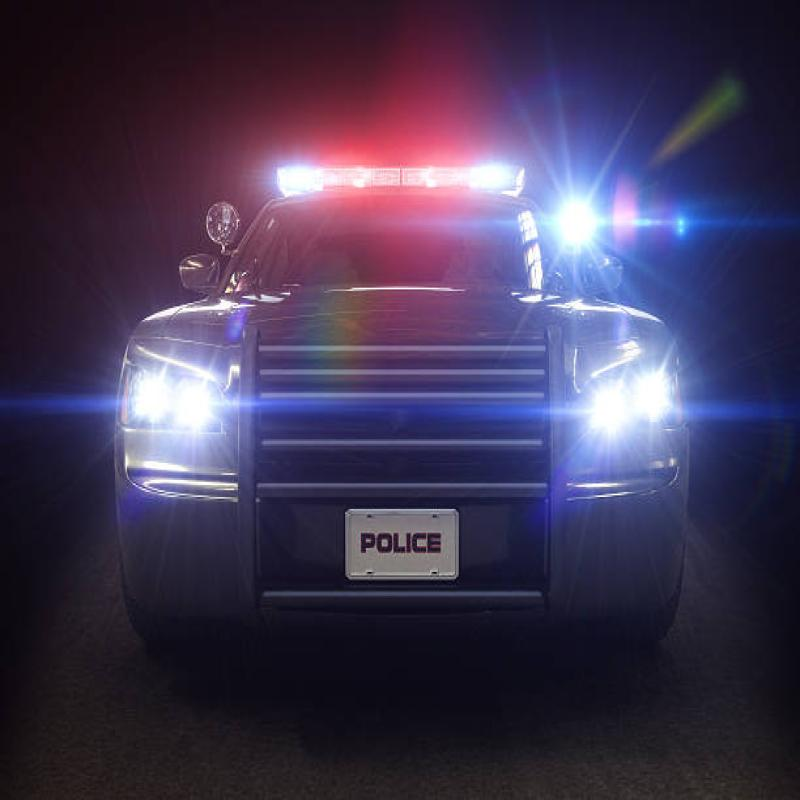AmbulanceSiren: (269, 140, 534, 222)
